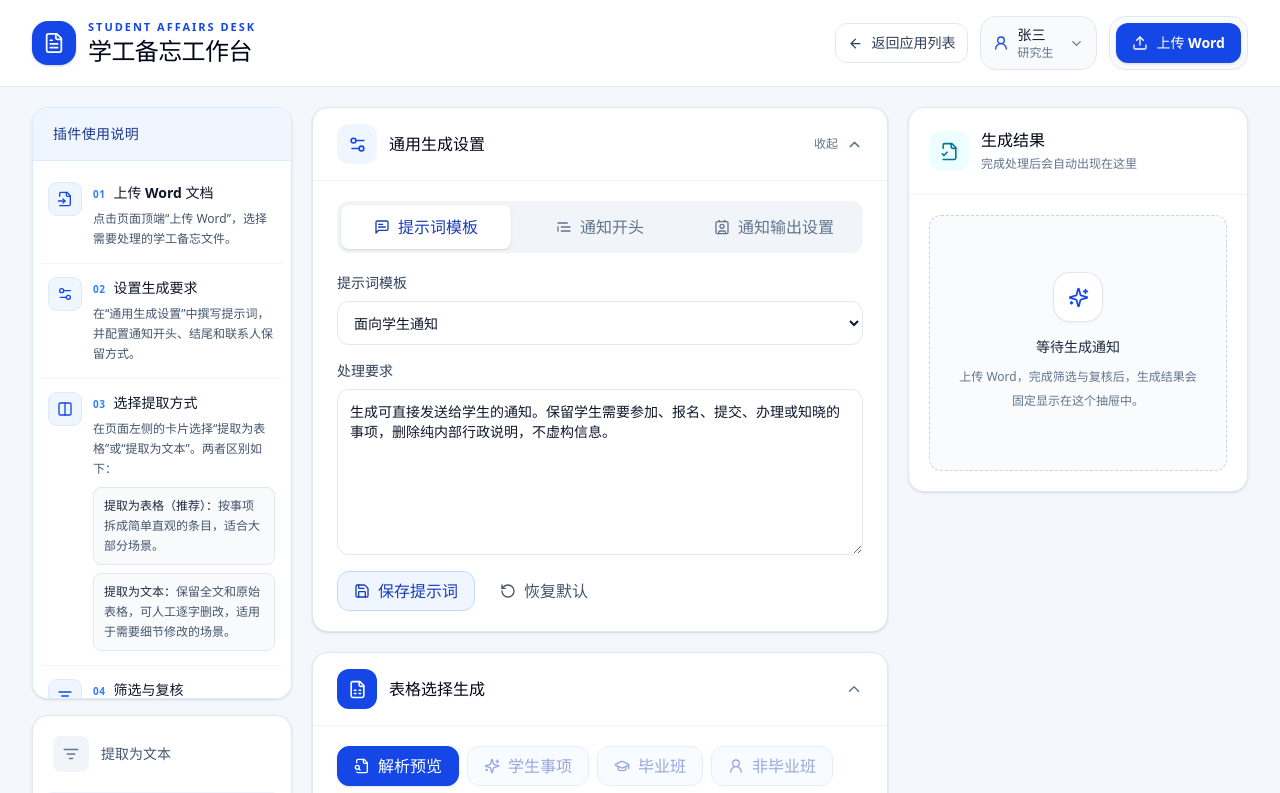
Test: App workspace › shows the authenticated workspace, user identity, and native logout form
Click the button with aria-label "用户菜单" at (1039, 43), box left=980, top=16, right=1098, bottom=70
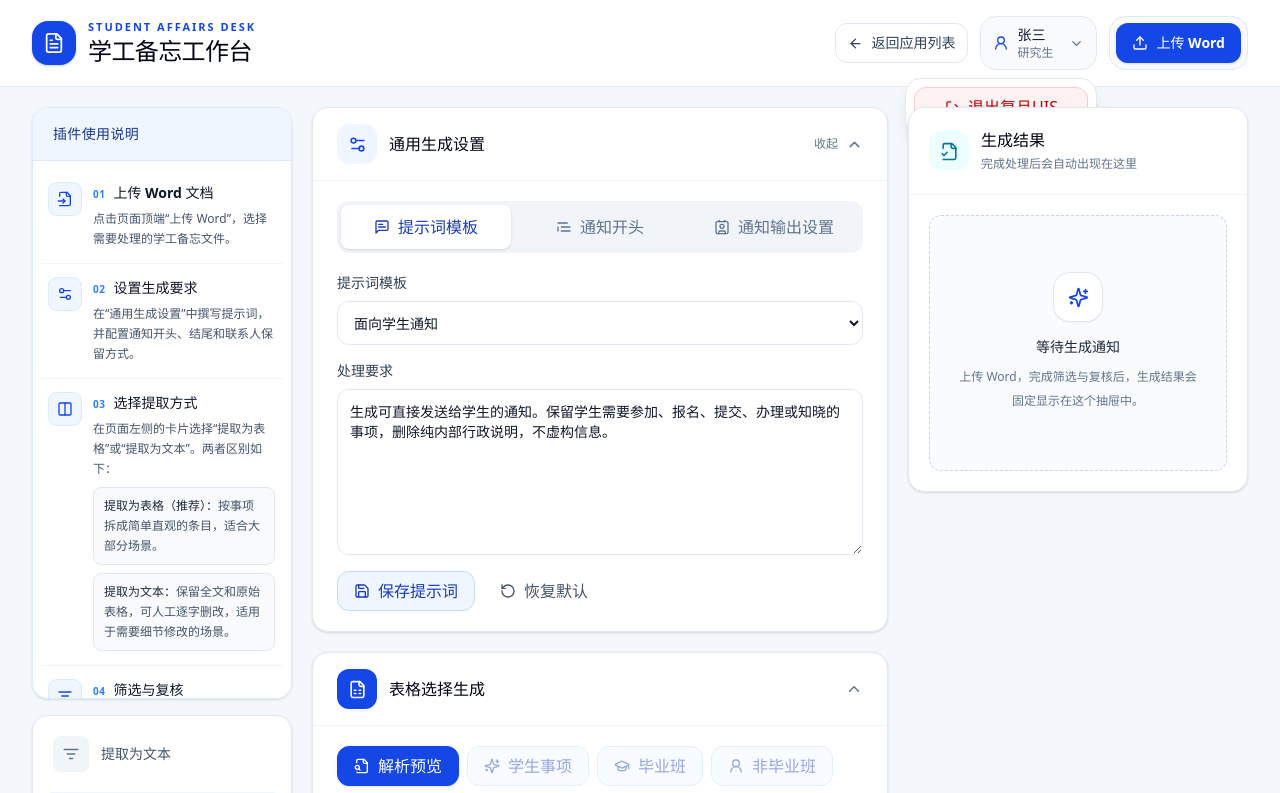
expect the link to "/" reads "返回应用列表": met, box left=836, top=23, right=968, bottom=63
expect the form is shown: met, box left=906, top=78, right=1098, bottom=136
expect the button with aria-label "退出复旦UIS" reads "退出复旦UIS": met, box left=914, top=87, right=1088, bottom=127
